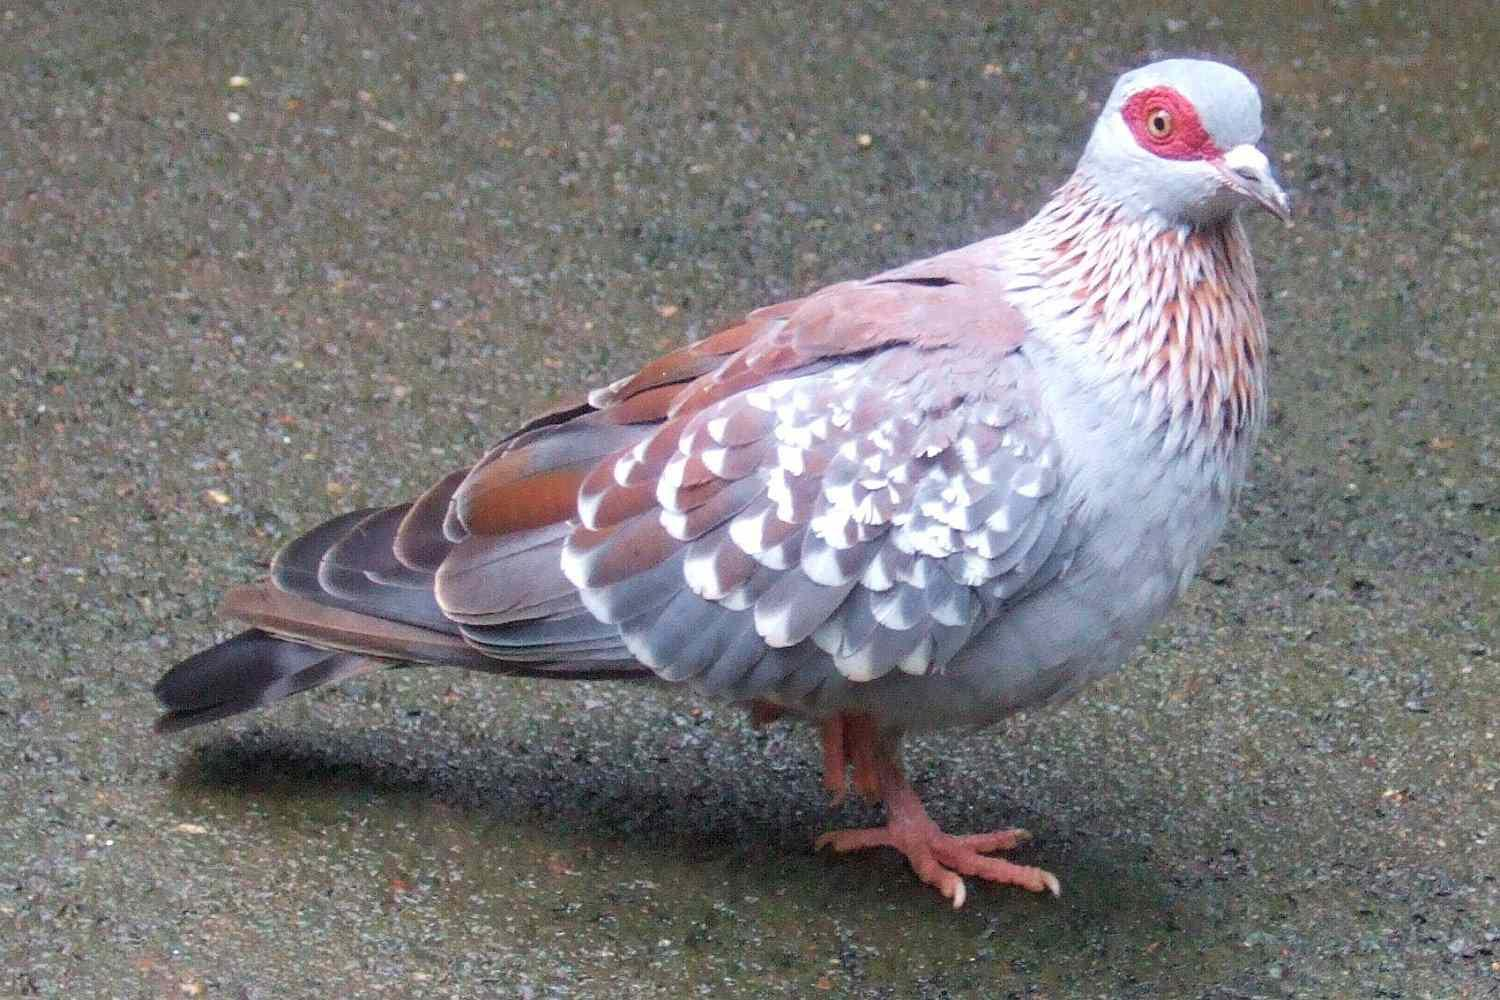Flying Rat: (147, 69, 1294, 912)
